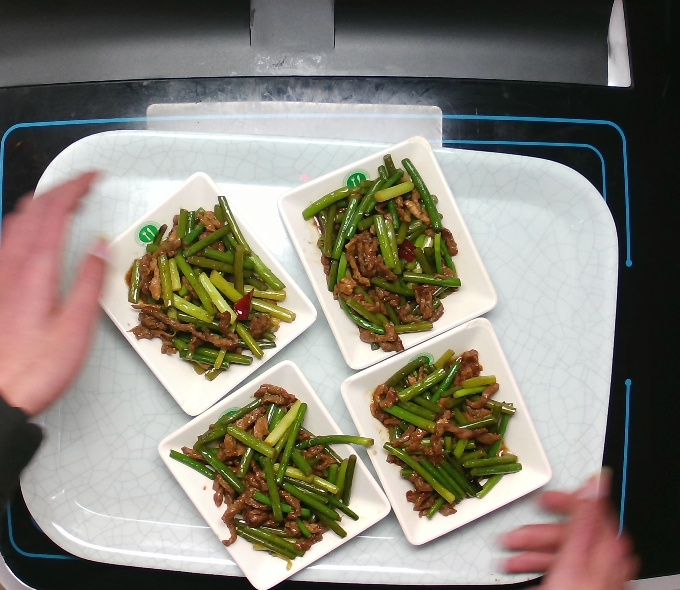wcq-SuanMiaoNiuRou: (163, 378, 379, 571), (119, 192, 301, 387), (298, 150, 465, 358), (365, 343, 526, 525)
